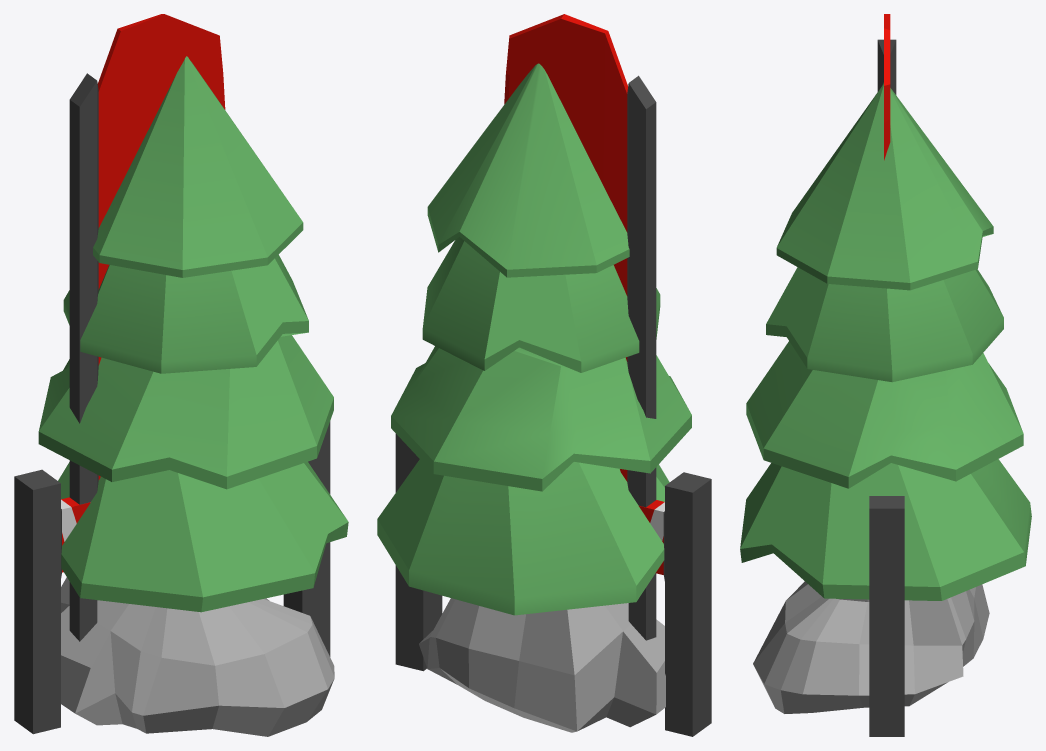
File: ski_roads_pregrady.fbx
The picture shows the model from 3 angles, left to right: view 1: azimuth 30°, elevation 25°; view 2: azimuth 150°, elevation 25°; view 3: azimuth 270°, elevation 25°; orthographic projection. The views are drawn at different scales.
Parts seen in each view (by area): view 1: elka, kamen, Cube.012, peregorodka; view 2: elka, kamen, Cube.012, peregorodka; view 3: elka, kamen, peregorodka, Cube.012.
Boxes of the visible parts, x1=… form: elka: x1=38, y1=56, x2=348, y2=612; kamen: x1=61, y1=577, x2=334, y2=736; Cube.012: x1=69, y1=14, x2=225, y2=641; peregorodka: x1=14, y1=421, x2=330, y2=734; elka: x1=377, y1=63, x2=691, y2=615; kamen: x1=419, y1=598, x2=665, y2=732; Cube.012: x1=504, y1=14, x2=656, y2=640; peregorodka: x1=395, y1=433, x2=711, y2=736; elka: x1=740, y1=82, x2=1031, y2=600; kamen: x1=753, y1=581, x2=989, y2=713; peregorodka: x1=869, y1=496, x2=904, y2=736; Cube.012: x1=877, y1=14, x2=896, y2=160.
Size of the model in its own units: 153 by 338 by 139.
